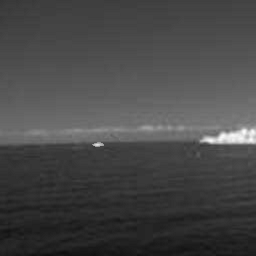Target: (92, 141, 105, 148)
